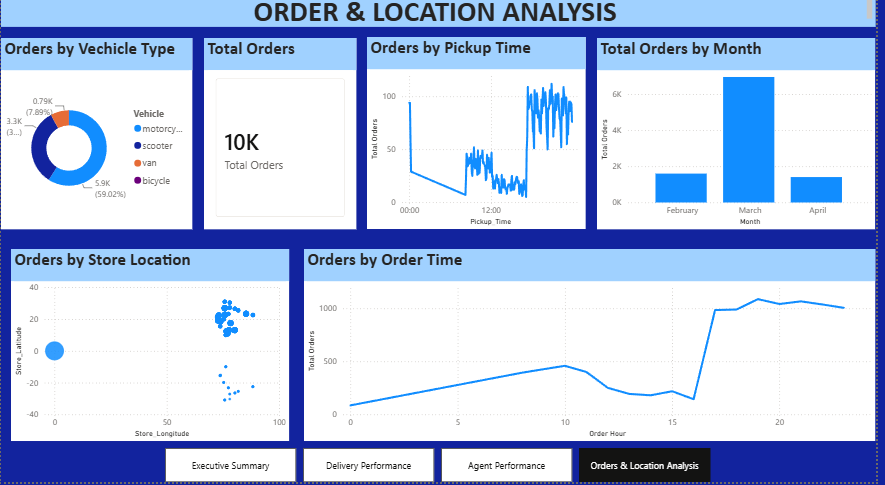

This screenshot's page, from the dashboard's own definition file:
{"tool":"powerbi","page":{"name":"Orders & Location Analysis","canvas":[1280,720],"ordinal":3},"visuals":[{"type":"donutChart","title":"Orders by Vechicle Type","fields":{"Category":["amazondelivery_db delivery_details.Vehicle"],"Y":["CountNonNull(amazondelivery_db delivery_details.Order_ID)"]},"box":[0,69.6,280,280],"z":0},{"type":"textbox","box":[0,0,1279.7,53.6],"z":1000},{"type":"clusteredColumnChart","title":"Total Orders by Month","fields":{"Category":["amazondelivery_db orders.Order_Date.Variation.Date Hierarchy.Month"],"Y":["amazondelivery_db orders.Total Orders"]},"box":[872.5,69.6,407.2,279.7],"z":2000},{"type":"scatterChart","title":"Orders by Store Location","fields":{"X":["amazondelivery_db orders.Store_Longitude"],"Y":["amazondelivery_db orders.Store_Latitude"],"Size":["amazondelivery_db orders.Total Orders"]},"box":[14.5,379.7,407.2,281.2],"z":3000},{"type":"lineChart","title":"Orders by Pickup Time","fields":{"Category":["amazondelivery_db orders.Pickup_Time"],"Y":["amazondelivery_db orders.Total Orders"]},"box":[536,68.1,320,281],"z":4000},{"type":"cardVisual","title":"Total Orders","fields":{"Data":["amazondelivery_db orders.Total Orders"]},"box":[296.4,69.6,223.2,279.7],"z":5000},{"type":"lineChart","title":"Orders by Order Time","fields":{"Y":["amazondelivery_db orders.Total Orders"],"Category":["amazondelivery_db orders.Order Hour"]},"box":[443.5,379.7,836.2,281.2],"z":6000},{"type":"pageNavigator","box":[240.6,669.6,800,50],"z":7000}]}

Visuals, with their boxes in screenshot pixels (x1, y1, x2, y2), scaled from the page's 1280x720 canvas onto the 885x485 screenshot:
"Orders by Vechicle Type" donutChart: pyautogui.locateOnScreen(0, 47, 194, 235)
textbox: pyautogui.locateOnScreen(0, 0, 884, 36)
"Total Orders by Month" clusteredColumnChart: pyautogui.locateOnScreen(603, 47, 884, 235)
"Orders by Store Location" scatterChart: pyautogui.locateOnScreen(10, 256, 292, 445)
"Orders by Pickup Time" lineChart: pyautogui.locateOnScreen(371, 46, 592, 235)
"Total Orders" cardVisual: pyautogui.locateOnScreen(205, 47, 359, 235)
"Orders by Order Time" lineChart: pyautogui.locateOnScreen(307, 256, 884, 445)
pageNavigator: pyautogui.locateOnScreen(166, 451, 719, 484)
